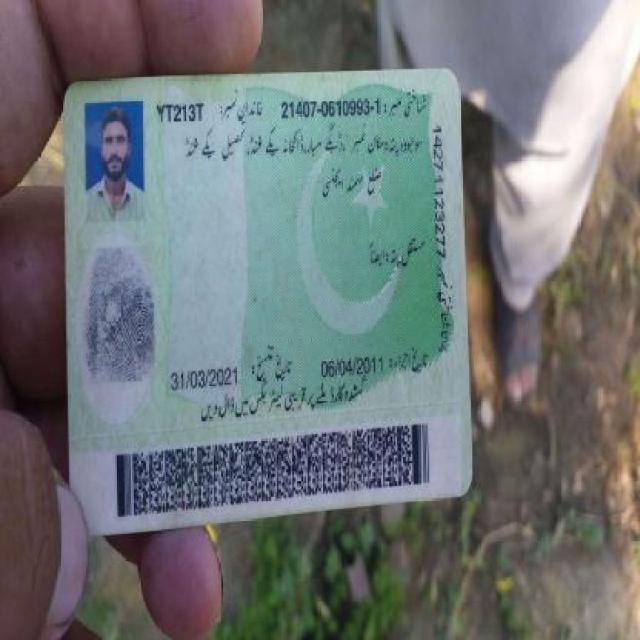Back: (60, 63, 478, 522)
